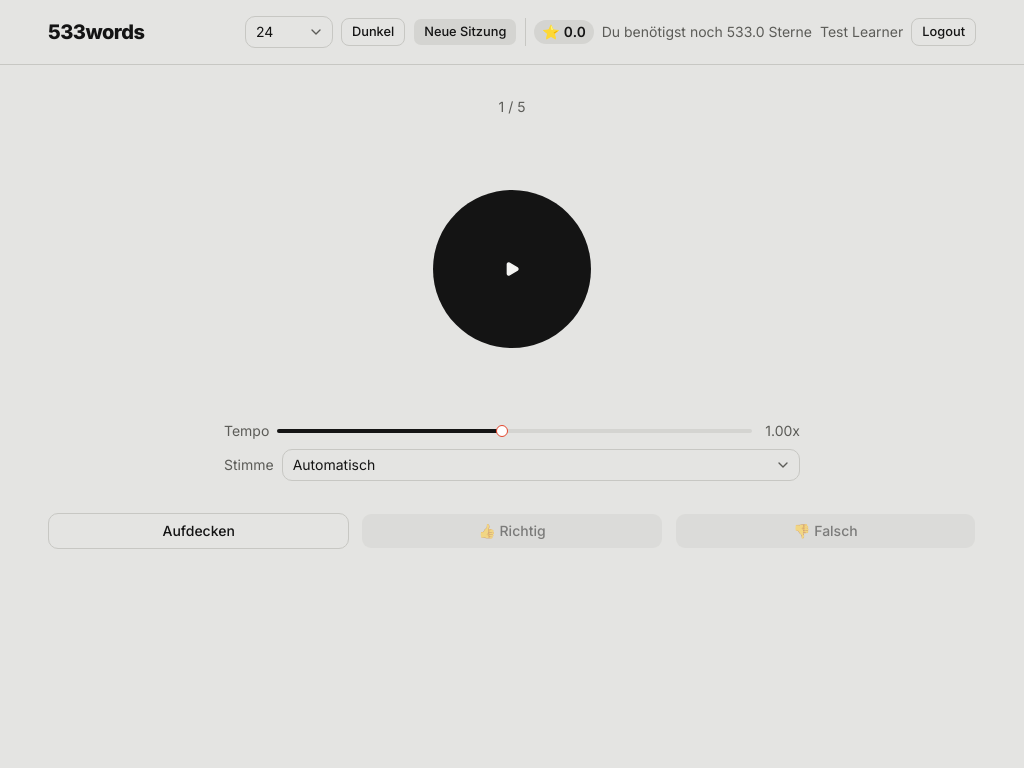
Test case: Home practice screen › selecting a session size discards an in-progress session and starts fresh
Expected: the button named "abspielen" is shown, [432,189,592,349]
Click the button "Aufdecken" at (199, 531), box [48,513,349,549]
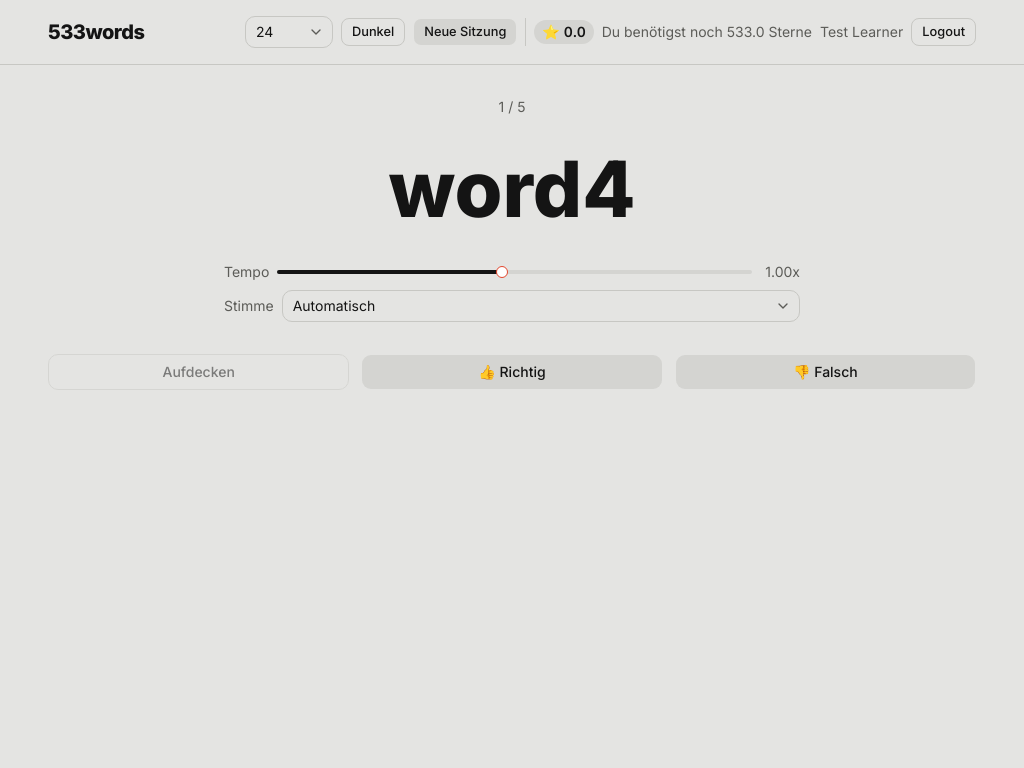
Now the text "word4" is shown, box [388,149,635,230]
Click the dropdown named "sitzungsgröße" at (289, 32), box [245,16,333,48]
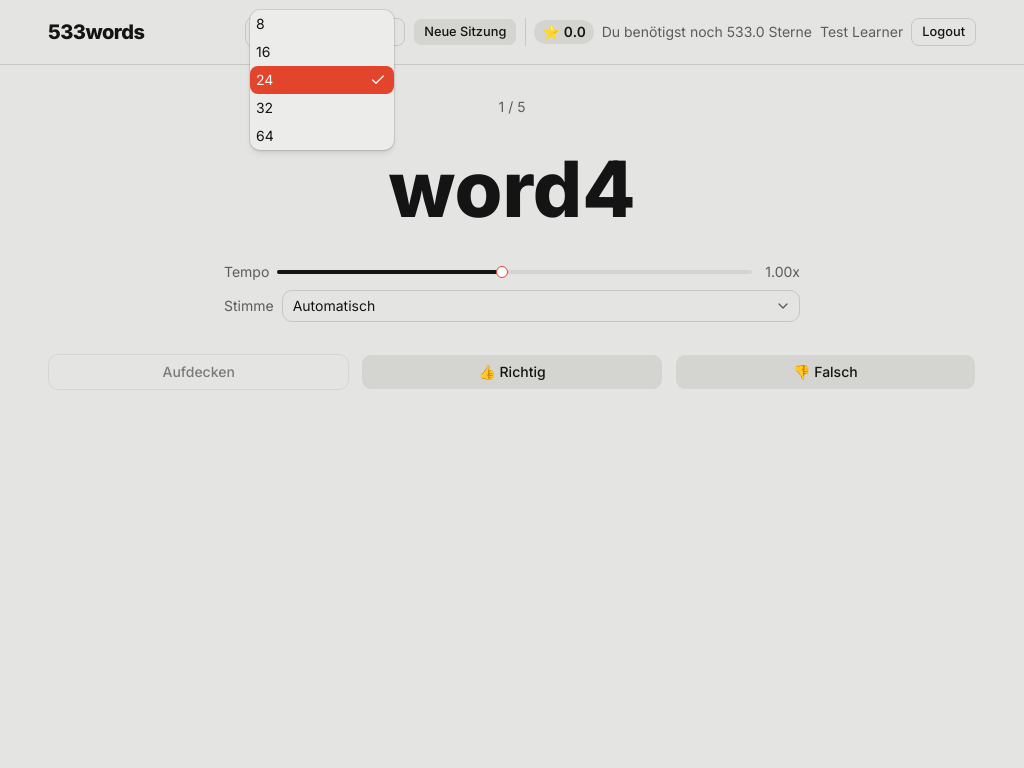
Click the option "8" at (260, 24), box [256,15,265,32]
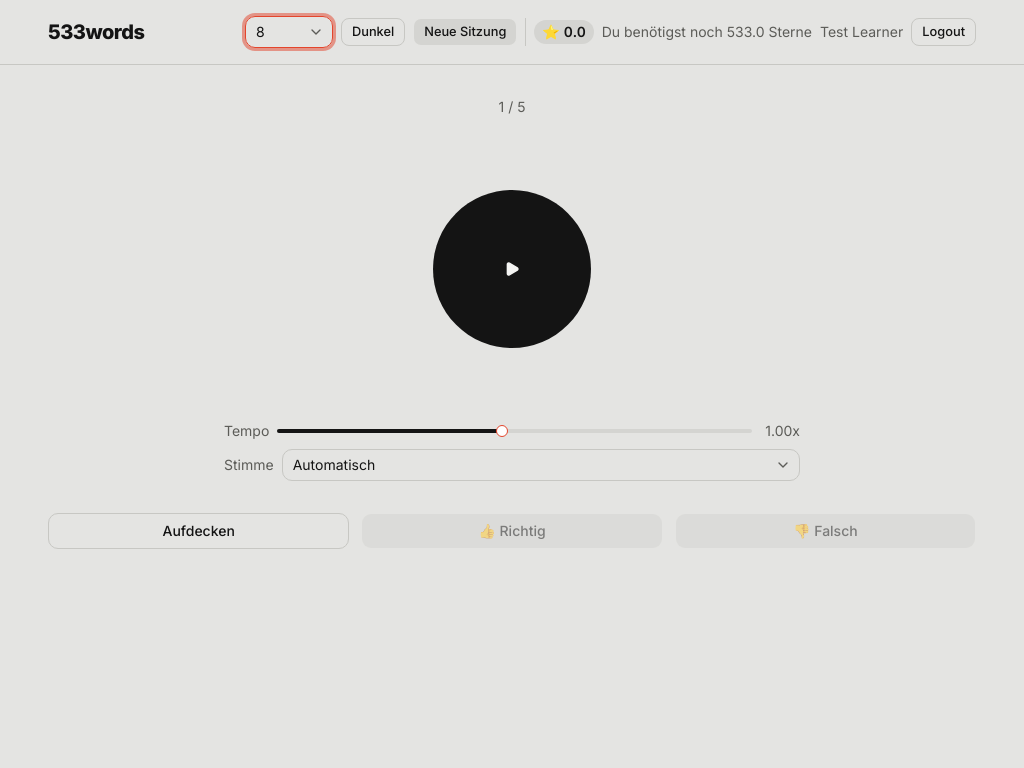
Now the button named "abspielen" is shown, box [432,189,592,349]
